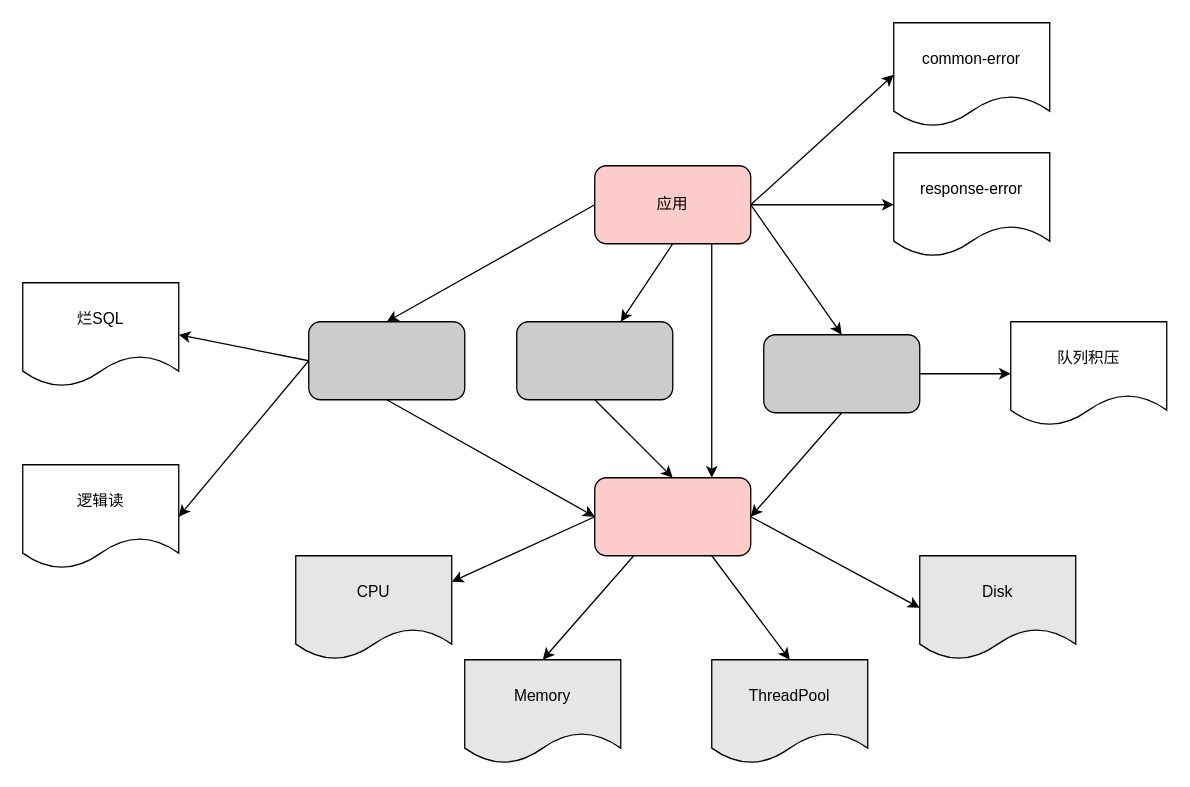
Image size: 1190x787. Some labels were removed from this diagram. Each missing label, with the centre of its shape:
"DB" belongs at [386,360].
"MsgBroker" belongs at [841,373].
"Server" belongs at [672,516].
"TBase" belongs at [594,360].
